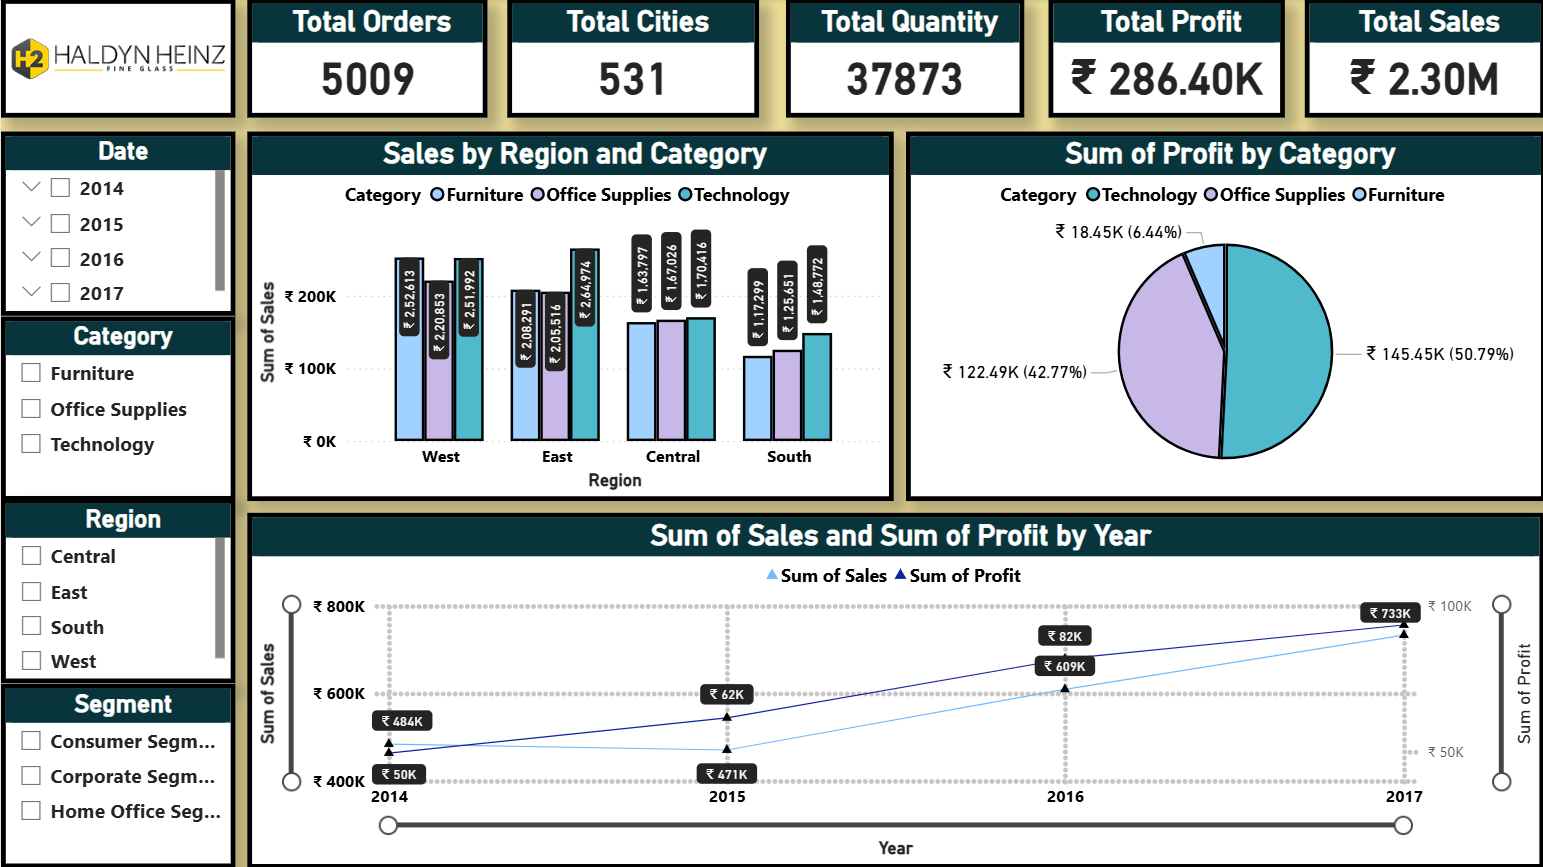

What the dashboard file says about the page in this screenshot:
{"tool":"powerbi","page":{"name":"Sales Overview","canvas":[1280,720],"ordinal":1},"visuals":[{"type":"image","box":[0,0,194.8,98.8],"z":0},{"type":"card","title":"Total Sales","fields":{"Values":["Sum(Orders.Sales)"]},"box":[1081,0,199,98.8],"z":1000},{"type":"card","title":"Total Quantity","fields":{"Values":["Sum(Orders.Quantity)"]},"box":[651.1,0,197.6,98.8],"z":2000},{"type":"card","title":"Total Cities","fields":{"Values":["Count(Orders.City)"]},"box":[420.2,0,208.7,98.8],"z":3000},{"type":"card","title":"Total Orders","fields":{"Values":["Count(Orders.Order ID)"]},"box":[204.5,0,199,98.8],"z":4000},{"type":"card","title":"Total Profit","fields":{"Values":["Sum(Orders.Profit)"]},"box":[868.2,0,196.2,98.8],"z":5000},{"type":"slicer","title":"Date","fields":{"Values":["Orders.Order Date.Variation.Date Hierarchy.Year","Orders.Order Date.Variation.Date Hierarchy.Quarter","Orders.Order Date.Variation.Date Hierarchy.Month","Orders.Order Date.Variation.Date Hierarchy.Day"]},"box":[0,109.9,194.8,153],"z":6000},{"type":"slicer","title":"Category","fields":{"Values":["Orders.Category"]},"box":[0,263,194.8,153],"z":7000},{"type":"slicer","title":"Region","fields":{"Values":["Orders.Region"]},"box":[0,414.6,194.8,153],"z":8000},{"type":"slicer","title":"Segment","fields":{"Values":["Orders.Segment"]},"box":[0,567.7,194.8,153],"z":9000},{"type":"clusteredColumnChart","title":"Sales by Region and Category","fields":{"Category":["Orders.Region"],"Y":["Sum(Orders.Sales)"],"Series":["Orders.Category"]},"box":[204.5,109.9,535.7,306.1],"z":10000},{"type":"pieChart","fields":{"Category":["Orders.Category"],"Y":["Sum(Orders.Profit)"]},"box":[749.9,109.9,530.1,306.1],"z":11000},{"type":"lineChart","fields":{"Category":["Orders.Order Date.Variation.Date Hierarchy.Year","Orders.Order Date.Variation.Date Hierarchy.Quarter","Orders.Order Date.Variation.Date Hierarchy.Month","Orders.Order Date.Variation.Date Hierarchy.Day"],"Y2":["Sum(Orders.Profit)"],"Y":["Sum(Orders.Sales)"]},"box":[204.5,425.7,1075.5,295],"z":12000}]}

Visuals, with their boxes in screenshot pixels (x1, y1, x2, y2), scaled from the page's 1280x720 canvas onto the 1543x867 screenshot:
image: (left=0, top=0, right=235, bottom=119)
"Total Sales" card: (left=1303, top=0, right=1542, bottom=119)
"Total Quantity" card: (left=785, top=0, right=1023, bottom=119)
"Total Cities" card: (left=507, top=0, right=758, bottom=119)
"Total Orders" card: (left=247, top=0, right=486, bottom=119)
"Total Profit" card: (left=1047, top=0, right=1283, bottom=119)
"Date" slicer: (left=0, top=132, right=235, bottom=317)
"Category" slicer: (left=0, top=317, right=235, bottom=501)
"Region" slicer: (left=0, top=499, right=235, bottom=683)
"Segment" slicer: (left=0, top=684, right=235, bottom=866)
"Sales by Region and Category" clusteredColumnChart: (left=247, top=132, right=892, bottom=501)
pieChart - Orders.Category x Sum(Orders.Profit): (left=904, top=132, right=1542, bottom=501)
lineChart - Orders.Order Date.Variation.Date Hierarchy.Year x Orders.Order Date.Variation.Date Hierarchy.Quarter: (left=247, top=513, right=1542, bottom=866)
